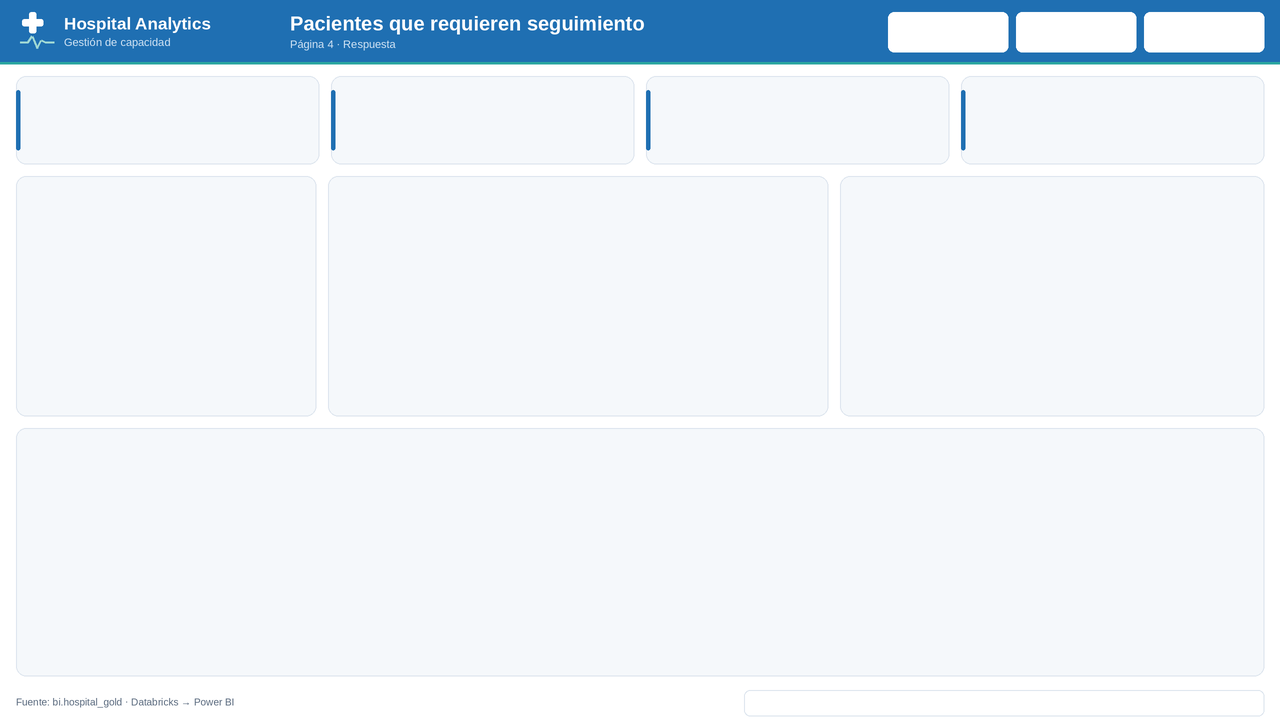

This screenshot's page, from the dashboard's own definition file:
{"tool":"powerbi","page":{"name":"4 Respuesta","canvas":[1920,1080],"ordinal":4},"visuals":[{"type":"slicer","fields":{"Values":["dim_date.year"]},"box":[1332,18,180,60],"z":0},{"type":"slicer","fields":{"Values":["dim_date.quarter_name"]},"box":[1524,18,180,60],"z":1000},{"type":"card","fields":{"Values":["_Medidas.Registros Crónicos"]},"box":[39,120,433.5,120],"z":1000},{"type":"slicer","fields":{"Values":["dim_departments.department_name"]},"box":[1716,18,180,60],"z":2000},{"type":"card","fields":{"Values":["_Medidas.Pacientes Crónicos"]},"box":[511.5,120,433.5,120],"z":2000},{"type":"card","fields":{"Values":["_Medidas.Pacientes con Presión Alta"]},"box":[984,120,433.5,120],"z":3000},{"type":"pageNavigator","box":[1116,1035,780,39],"z":3000},{"type":"card","fields":{"Values":["_Medidas.Hipertensos sin Próxima Cita"]},"box":[1456.5,120,433.5,120],"z":4000},{"type":"donutChart","title":"12,3 % de las consultas son por enfermedad crónica","fields":{"Category":["fact_medical_records.Condición"],"Y":["_Medidas.Registros Clínicos"]},"box":[24,264,450,360],"z":5000},{"type":"clusteredColumnChart","title":"Los mayores de 60 son el 46 % de los pacientes crónicos","fields":{"Category":["dim_patients.age_group"],"Y":["_Medidas.Pacientes Crónicos"]},"box":[492,264,750,360],"z":6000},{"type":"tableEx","title":"72 de 134 pacientes con presión alta no tienen cita de seguimiento","fields":{"Values":["dim_patients.full_name","dim_patients.age_group","_Medidas.Diagnóstico (lectura alta)","_Medidas.Presión Arterial (lectura alta)","_Medidas.Próxima Cita (seguimiento)"]},"box":[24,642,1872,372],"z":7000},{"type":"textbox","box":[1275,276,606,336],"z":8000}]}

Visuals, with their boxes on the page's 1920x1080 design canvas (x1, y1, x2, y2). These are canvas units, not pixel positions in the 1280x720 screenshot, which may show the page scaled, cropped or inside an application window:
slicer - dim_date.year: <box>1332,18,1512,78</box>
slicer - dim_date.quarter_name: <box>1524,18,1704,78</box>
card - _Medidas.Registros Crónicos: <box>39,120,472,240</box>
slicer - dim_departments.department_name: <box>1716,18,1896,78</box>
card - _Medidas.Pacientes Crónicos: <box>512,120,945,240</box>
card - _Medidas.Pacientes con Presión Alta: <box>984,120,1418,240</box>
pageNavigator: <box>1116,1035,1896,1074</box>
card - _Medidas.Hipertensos sin Próxima Cita: <box>1456,120,1890,240</box>
"12,3 % de las consultas son por enfermedad crónica" donutChart: <box>24,264,474,624</box>
"Los mayores de 60 son el 46 % de los pacientes crónicos" clusteredColumnChart: <box>492,264,1242,624</box>
"72 de 134 pacientes con presión alta no tienen cita de seguimiento" tableEx: <box>24,642,1896,1014</box>
textbox: <box>1275,276,1881,612</box>
